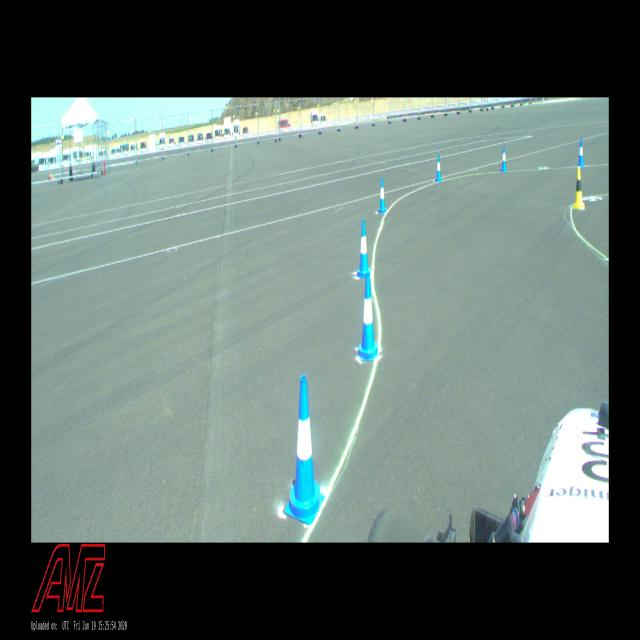blue_cone: (284, 375, 325, 525), (358, 274, 378, 361), (357, 220, 371, 278), (378, 177, 387, 213), (577, 139, 585, 168), (435, 154, 442, 182), (501, 145, 507, 172)
yellow_cone: (572, 167, 584, 210)
